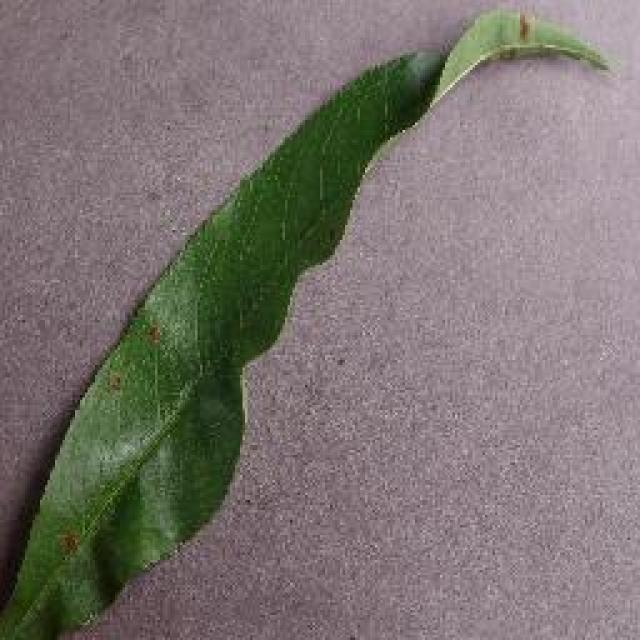Peach_Bacterial_Spot: (405, 13, 565, 197)
